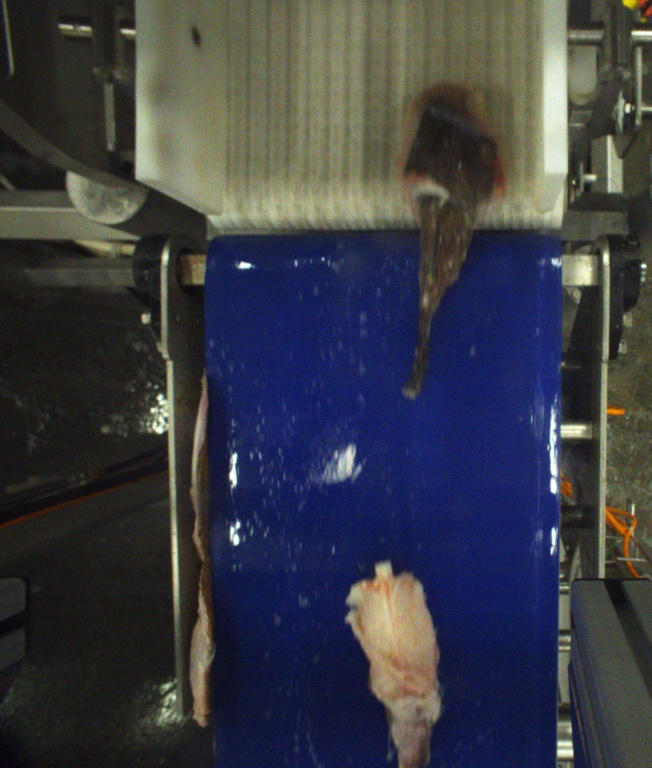ANF: (344, 564, 449, 768)
